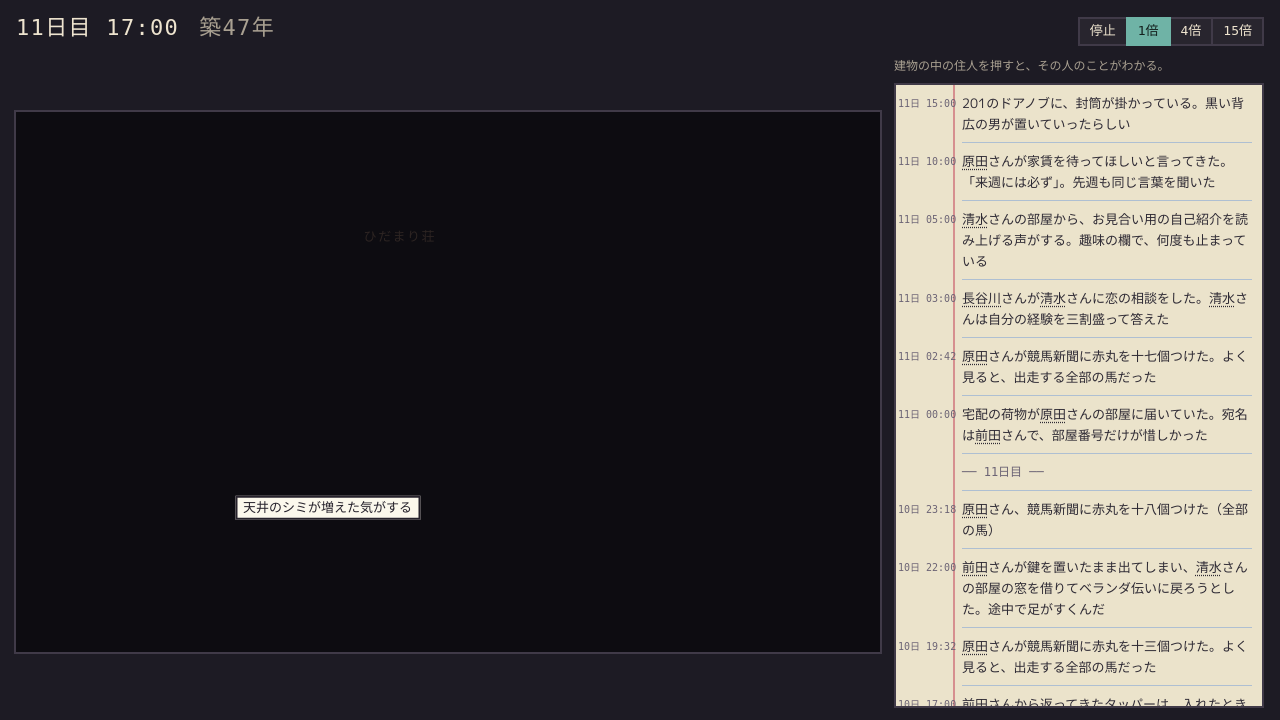
追加: 住人を押すとプロフィールが言葉だけで出る › 空室を押すとプロフィールは出ない
Click the picture at (448, 382), box [20, 116, 876, 648]
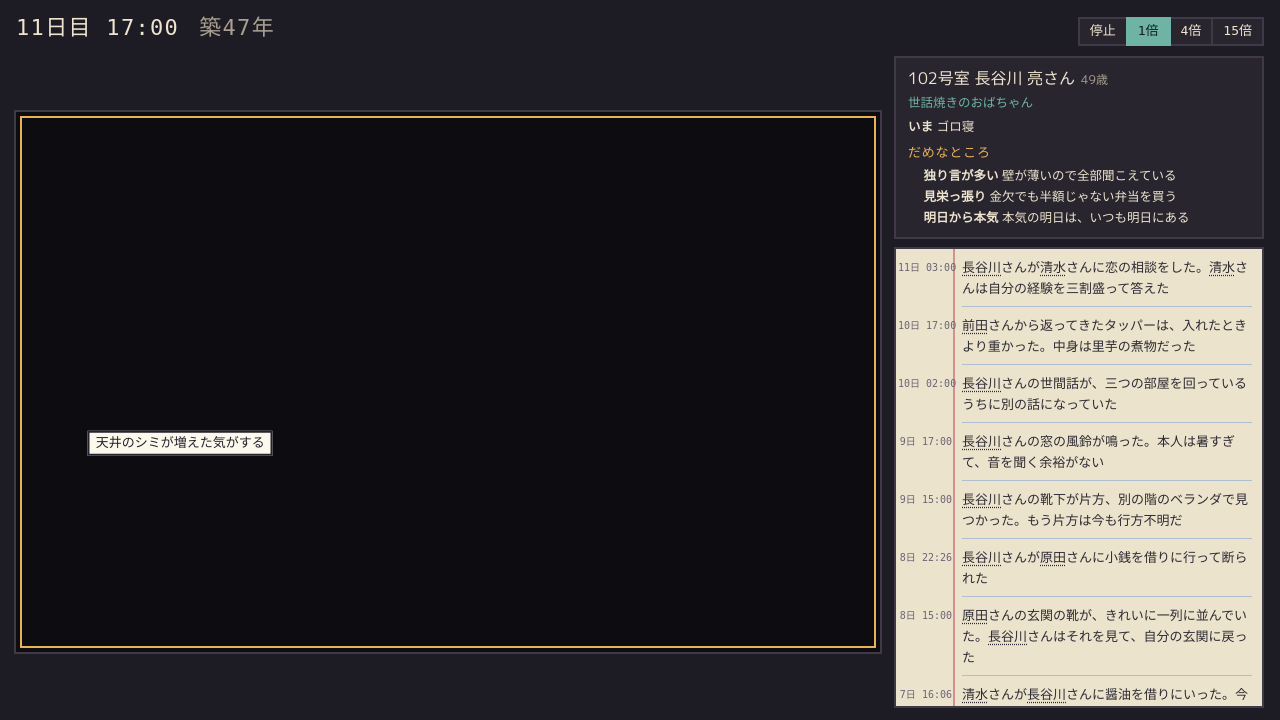
Result: the element named "住人のプロフィール" is shown at [894, 56, 1264, 239]
Click the picture at (448, 382), box [20, 116, 876, 648]
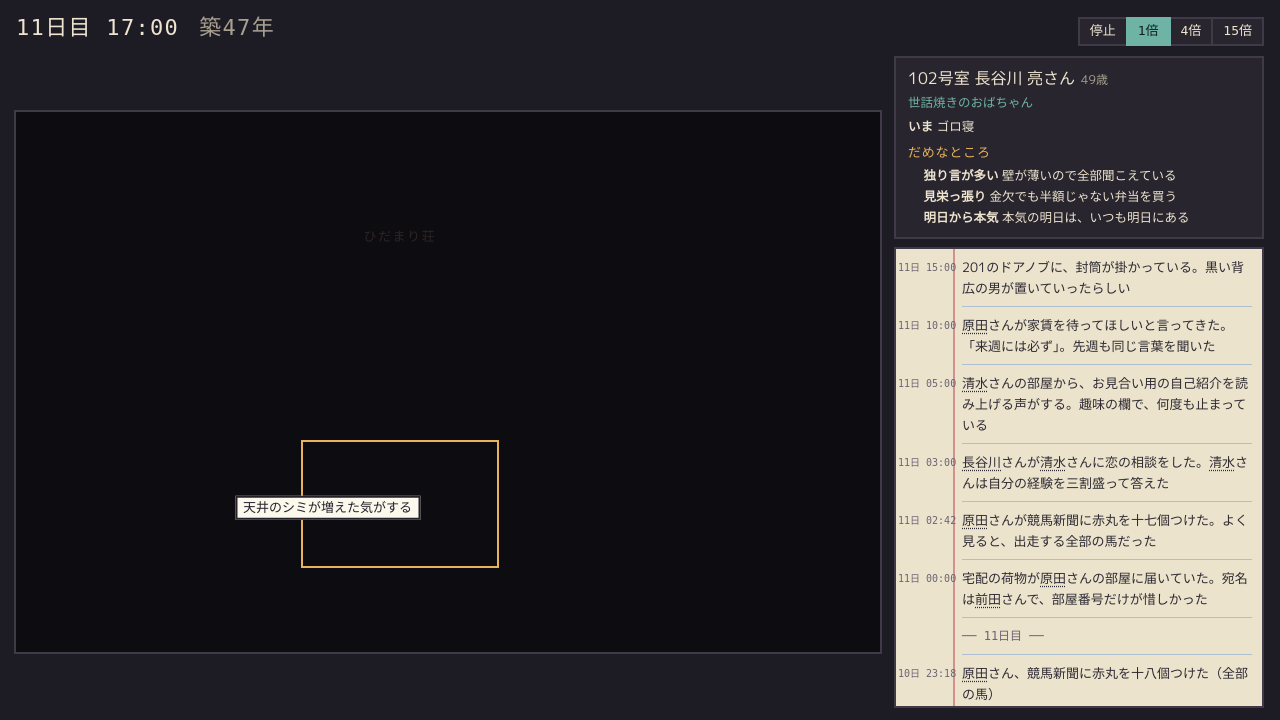
Click the picture at (448, 382), box [20, 116, 876, 648]
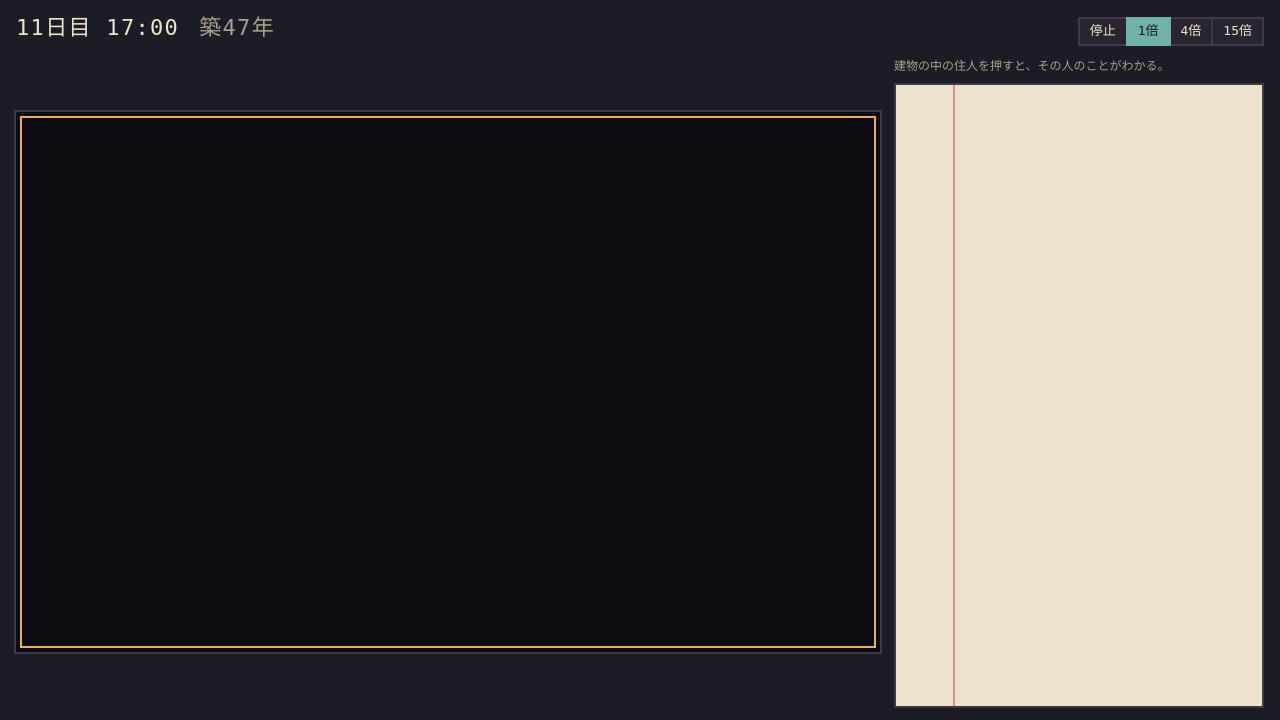
Result: the element "住人のプロフィール" is gone
